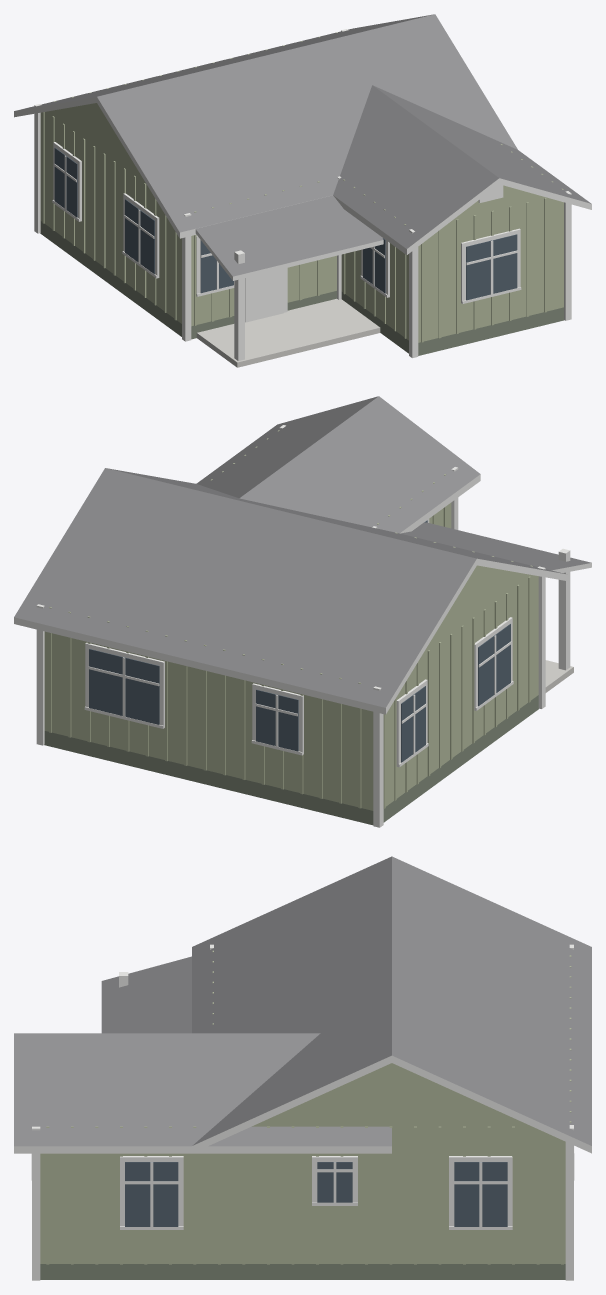
The model's file is plum-sage.glb.
3 views of the same model, one above another, from view 1: azimuth 30°, elevation 25°; view 2: azimuth 150°, elevation 25°; view 3: azimuth 270°, elevation 25° (orthographic). The views are drawn at different scales.
Visible parts, largest first — view 1: The Plum (sage); view 2: The Plum (sage); view 3: The Plum (sage).
Boxes of the visible parts, <box> form: The Plum (sage): <box>14,14,591,367</box>; The Plum (sage): <box>14,396,591,827</box>; The Plum (sage): <box>14,856,591,1280</box>.
Size of the model in its own units: 8.08 by 4.42 by 9.9.
